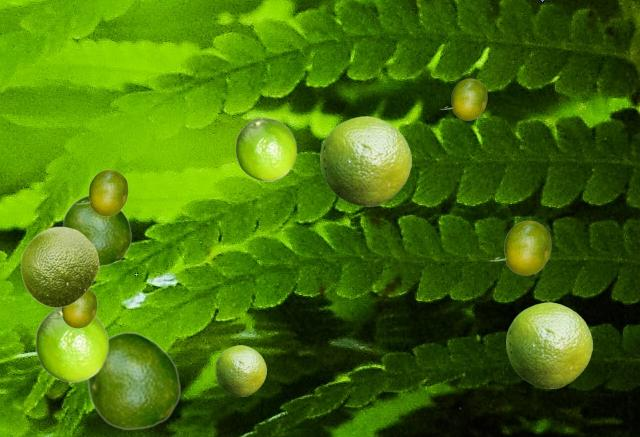calamansi: (86, 331, 180, 429), (320, 116, 410, 205), (506, 302, 591, 387), (20, 226, 98, 307), (35, 308, 108, 381), (62, 195, 131, 266), (235, 117, 296, 180), (488, 220, 550, 274), (215, 345, 265, 395), (75, 169, 127, 215), (439, 78, 486, 119), (49, 289, 96, 327)
